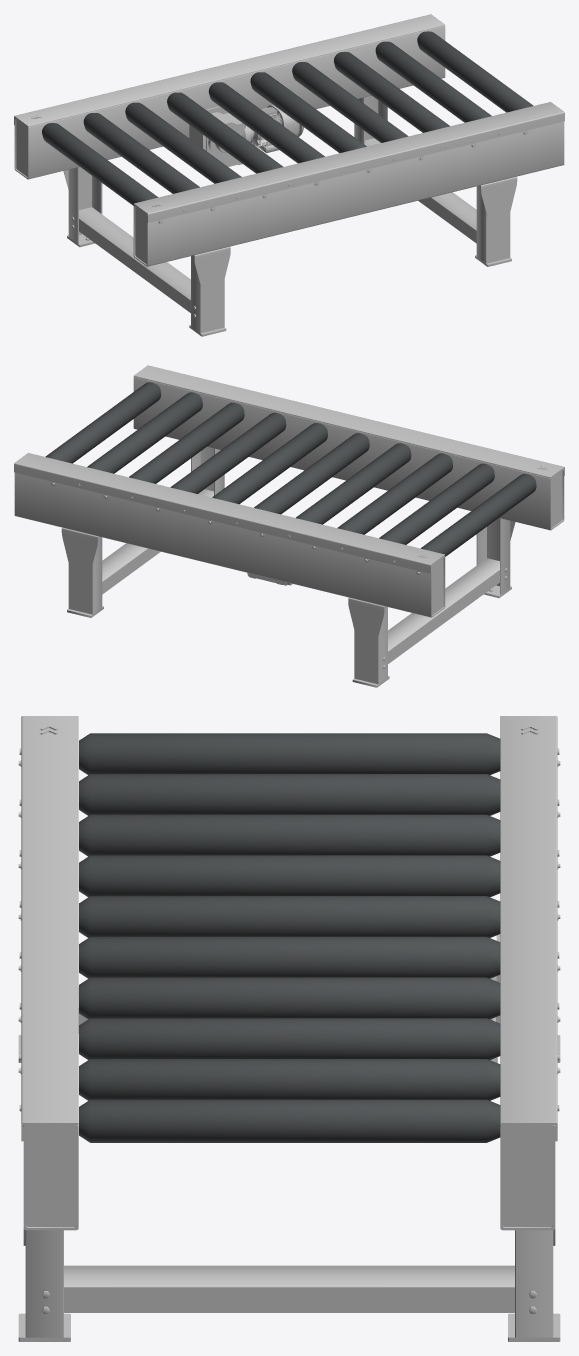
The model's file is RollerConveyor2M.FBX.
3 renders of one model, top to bottom at view 1: azimuth 30°, elevation 25°; view 2: azimuth 150°, elevation 25°; view 3: azimuth 270°, elevation 25°, orthographic. The views are drawn at different scales.
Visible parts, largest first — view 1: RollerConveyor2M, RollerConveyor_Bearing; view 2: RollerConveyor2M, RollerConveyor_Bearing; view 3: RollerConveyor_Bearing, RollerConveyor2M.
Part boxes in pixels (box(x1,y1,x2,y2)): RollerConveyor2M: box(14, 14, 564, 336); RollerConveyor_Bearing: box(42, 31, 533, 205); RollerConveyor2M: box(14, 365, 564, 687); RollerConveyor_Bearing: box(45, 382, 536, 556); RollerConveyor_Bearing: box(79, 733, 500, 1142); RollerConveyor2M: box(18, 716, 560, 1341).
Bounding box in the file's own units: 2 × 0.6235 × 1.12.
